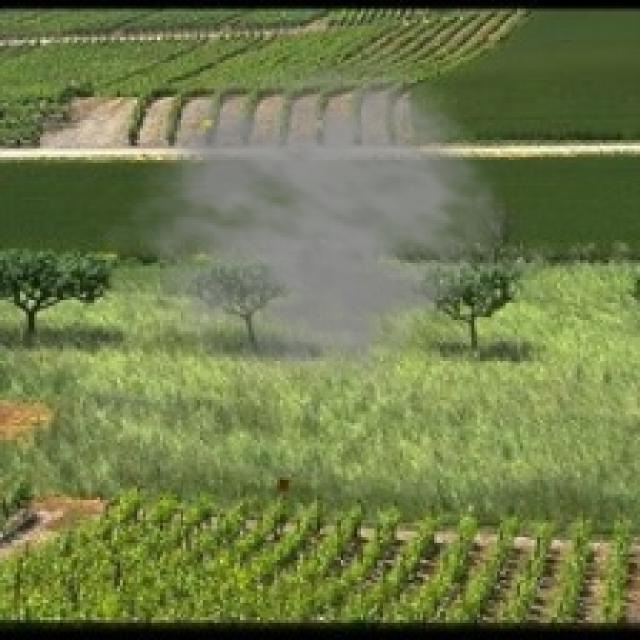Smoke: (97, 49, 509, 408)
